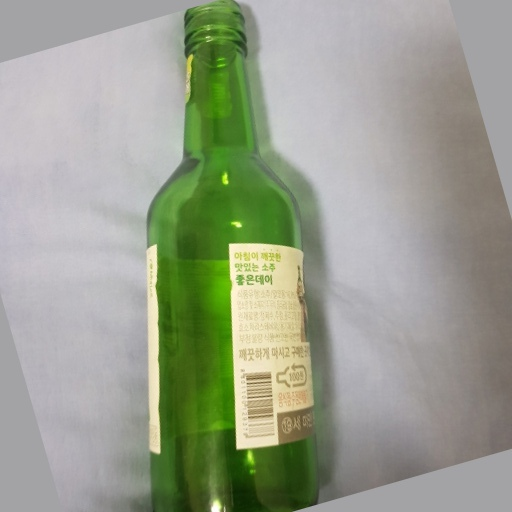Glass_0: (139, 1, 323, 512)
